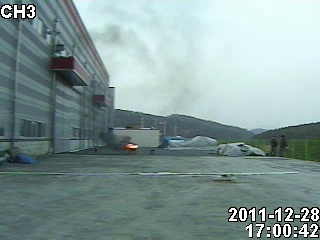fire: (122, 138, 136, 150)
smoke: (104, 1, 203, 117)
